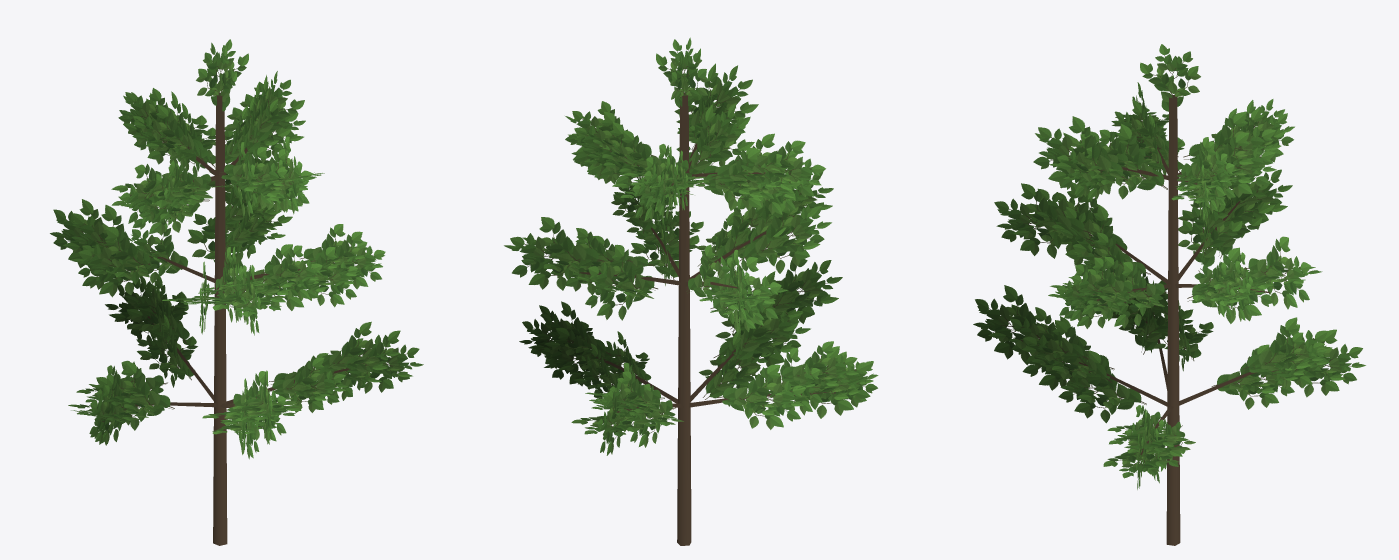
The model's file is Tall Shrub 07.glb.
The picture shows the model from 3 angles, left to right: view 1: azimuth 30°, elevation 25°; view 2: azimuth 150°, elevation 25°; view 3: azimuth 270°, elevation 25°; orthographic projection.
Parts seen in each view (by area): view 1: Tall Shrub 07; view 2: Tall Shrub 07; view 3: Tall Shrub 07.
Part boxes in pixels (x1,y1,x2,y2): Tall Shrub 07: (50, 39, 423, 545); Tall Shrub 07: (504, 37, 878, 545); Tall Shrub 07: (973, 44, 1365, 545).
Size of the model in its own units: 2.67 by 3.36 by 2.68.
Materials: 1 (1 with a texture image).
